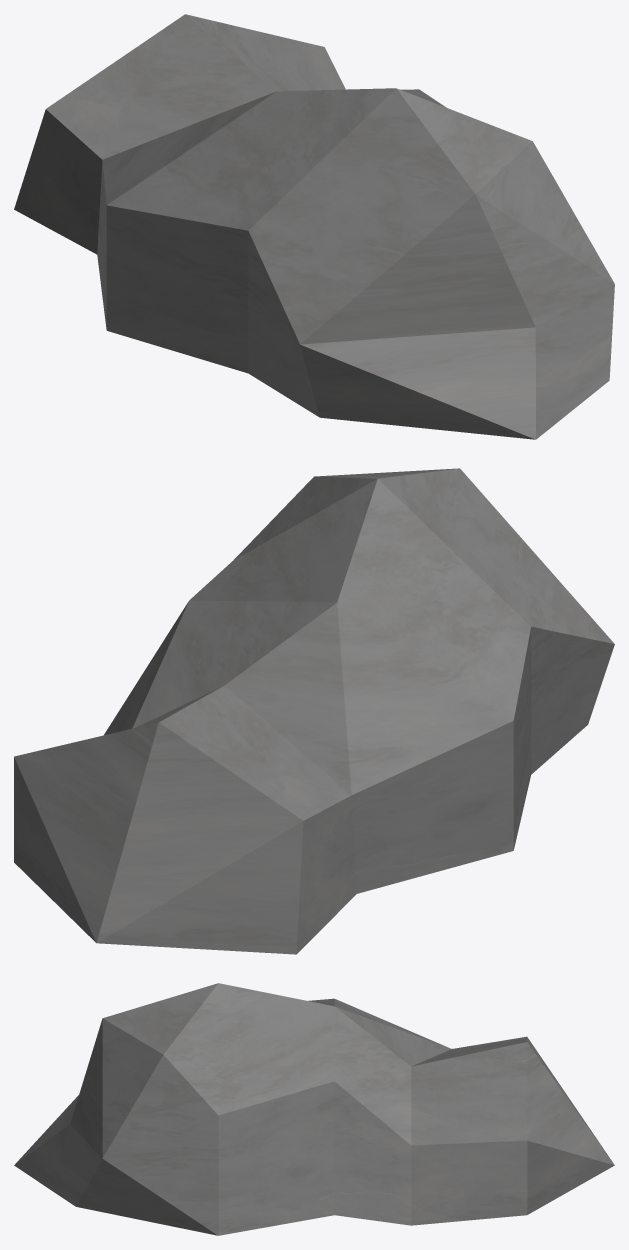
File: bigstone1.fbx
3 renders of one model, top to bottom at view 1: azimuth 30°, elevation 25°; view 2: azimuth 150°, elevation 25°; view 3: azimuth 270°, elevation 25°, orthographic. The views are drawn at different scales.
Parts seen in each view (by area): view 1: bigstoon1; view 2: bigstoon1; view 3: bigstoon1.
Part boxes in pixels (box(x1,y1,x2,y2)): bigstoon1: box(14, 14, 614, 439); bigstoon1: box(14, 468, 614, 954); bigstoon1: box(14, 983, 614, 1235).
Bounding box in the file's own units: 4.4 × 2.61 × 7.68.
1 material, 1 textured.
